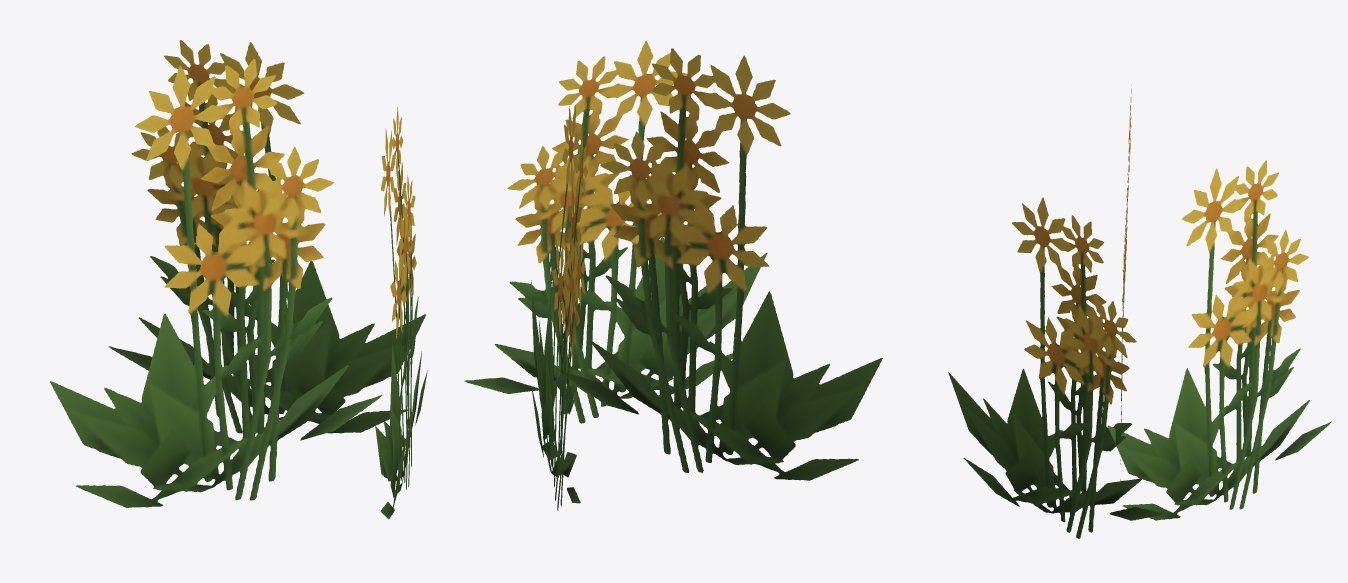
Rendered from flowers_yellow.glb.
3 views of the same model, side by side, from view 1: azimuth 30°, elevation 25°; view 2: azimuth 150°, elevation 25°; view 3: azimuth 270°, elevation 25° (orthographic). The views are drawn at different scales.
Visible parts, largest first — view 1: flowers_yellow_mesh; view 2: flowers_yellow_mesh; view 3: flowers_yellow_mesh.
Boxes of the visible parts, x1,y1,x2,y2 form: flowers_yellow_mesh: (50, 40, 427, 519); flowers_yellow_mesh: (464, 41, 882, 510); flowers_yellow_mesh: (948, 85, 1331, 538).
Bounding box in the file's own units: 0.4399 × 0.4325 × 0.4152.
1 material, 1 textured.
